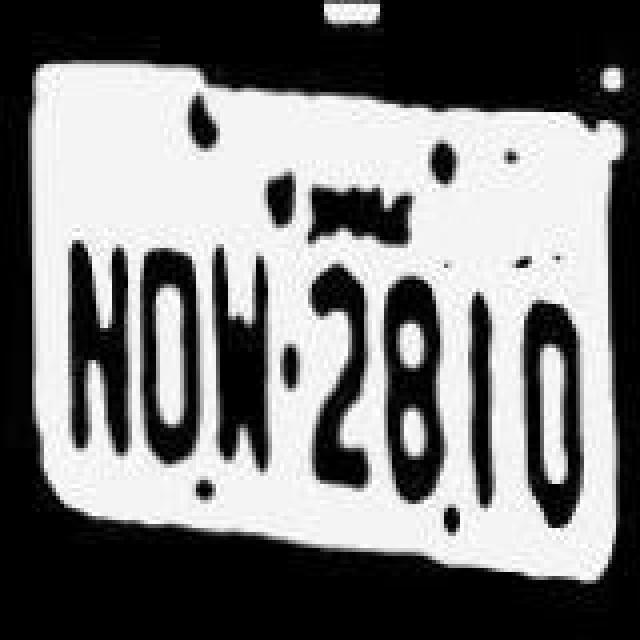1: (460, 264, 508, 516)
2: (298, 250, 374, 522)
8: (374, 266, 450, 506)
N: (50, 212, 134, 476)
O: (514, 286, 590, 546), (128, 220, 200, 476)
W: (204, 242, 284, 482)
